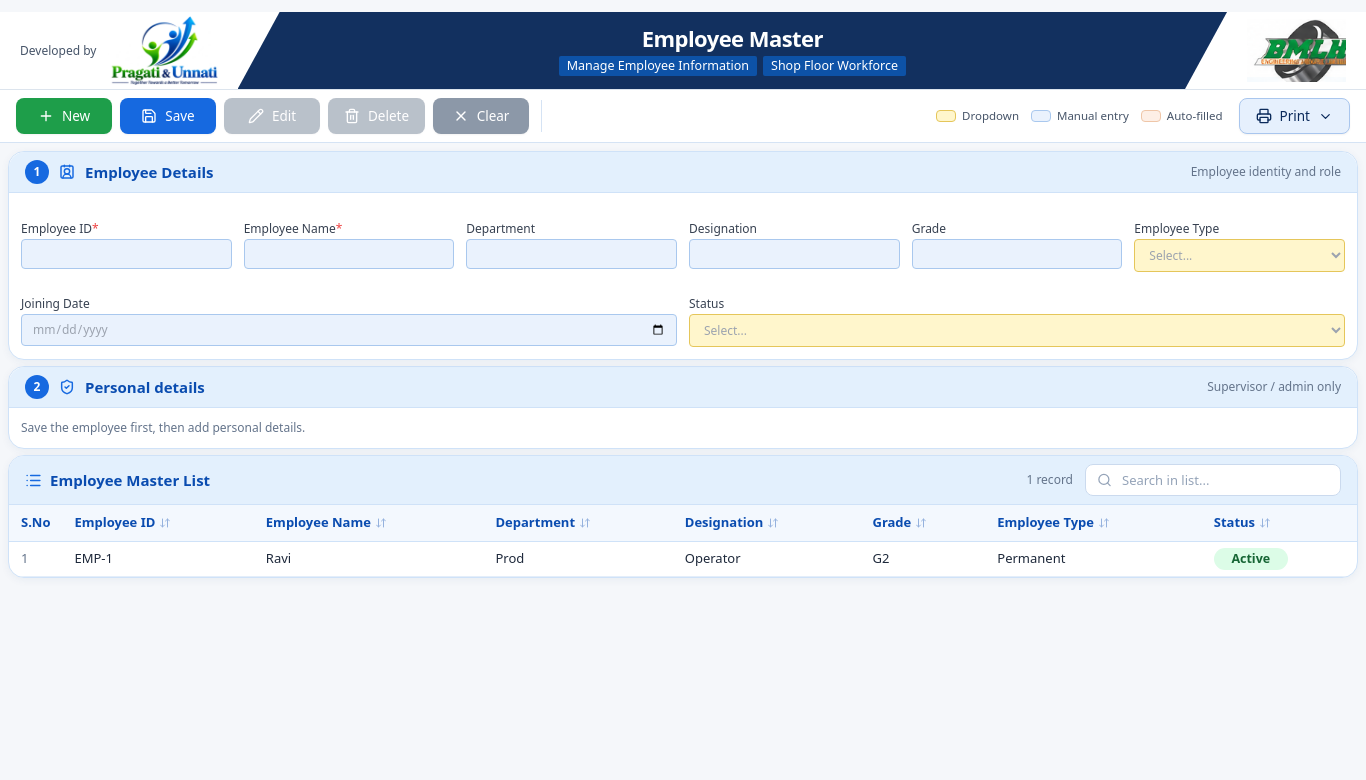
Test: Employee Master -- Personal details (059) › open employee: values shown, Aadhaar always masked XXXX XXXX 1234
Click the text "Ravi" at [279, 558], box left=254, top=541, right=483, bottom=577
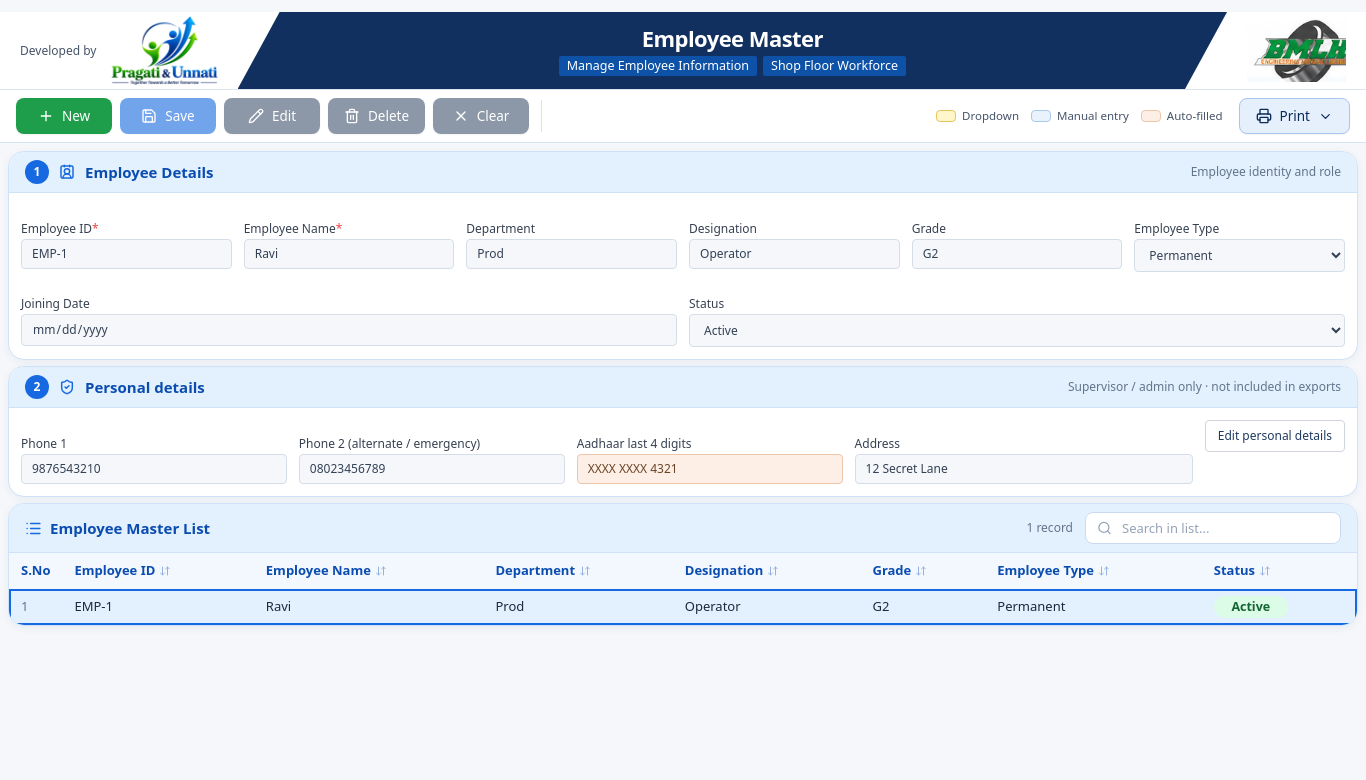
Now the field labelled "Phone 1" holds "9876543210", box left=21, top=454, right=287, bottom=484
Now the field labelled "Phone 1" is disabled, box left=21, top=454, right=287, bottom=484
